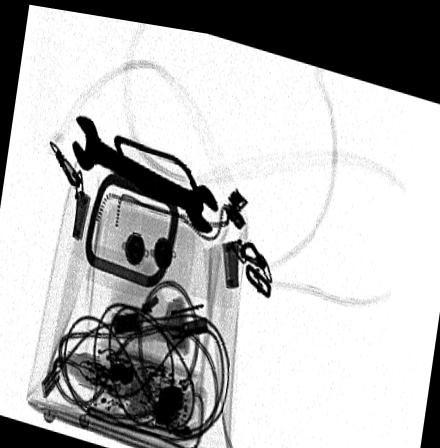Wrench: (69, 111, 219, 229)
